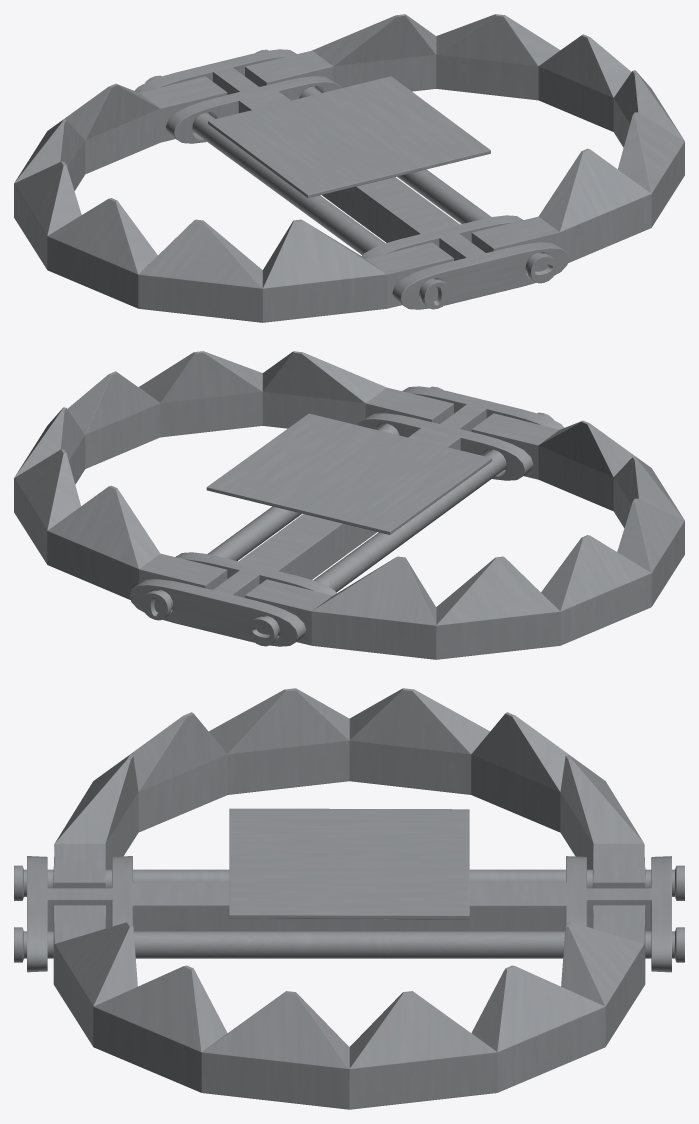
The model's file is bearTrap.glb.
3 views of the same model, one above another, from view 1: azimuth 30°, elevation 25°; view 2: azimuth 150°, elevation 25°; view 3: azimuth 270°, elevation 25° (orthographic). The views are drawn at different scales.
Parts seen in each view (by area): view 1: teeth2Geo, teeth1Geo, bearTrapGeo; view 2: teeth2Geo, teeth1Geo, bearTrapGeo; view 3: teeth1Geo, teeth2Geo, bearTrapGeo.
Boxes of the visible parts, left/top/right/bottom form: teeth2Geo: left=14, top=75, right=453, bottom=322; teeth1Geo: left=245, top=14, right=684, bottom=283; bearTrapGeo: left=135, top=49, right=569, bottom=309; teeth2Geo: left=245, top=412, right=684, bottom=659; teeth1Geo: left=14, top=351, right=453, bottom=620; bearTrapGeo: left=129, top=386, right=564, bottom=646; teeth1Geo: left=14, top=905, right=684, bottom=1109; teeth2Geo: left=14, top=688, right=684, bottom=900; bearTrapGeo: left=27, top=808, right=671, bottom=972.
Bounding box in the file's own units: 2.8 × 0.3491 × 2.27.
1 material, 1 textured.
